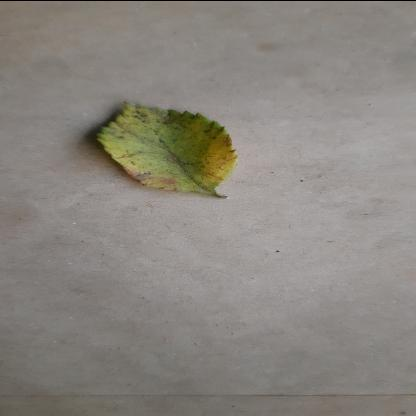downy-mildew: (92, 100, 238, 190)
